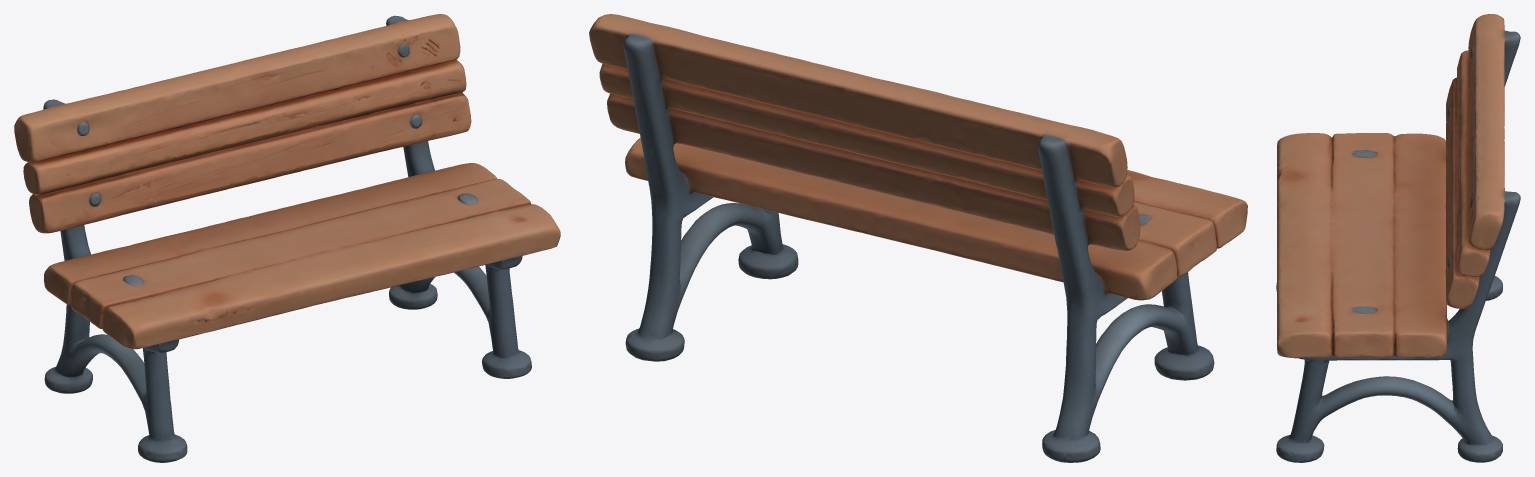
File: bench.glb
3 views of the same model, side by side, from view 1: azimuth 30°, elevation 25°; view 2: azimuth 150°, elevation 25°; view 3: azimuth 270°, elevation 25° (orthographic). The views are drawn at different scales.
Parts seen in each view (by area): view 1: Mesh; view 2: Mesh; view 3: Mesh.
Boxes of the visible parts, x1,y1,x2,y2 form: Mesh: (14, 14, 560, 462); Mesh: (589, 14, 1247, 462); Mesh: (1276, 14, 1520, 462).
Bounding box in the file's own units: 1.91 × 1.15 × 0.9703.
1 material, 1 textured.
